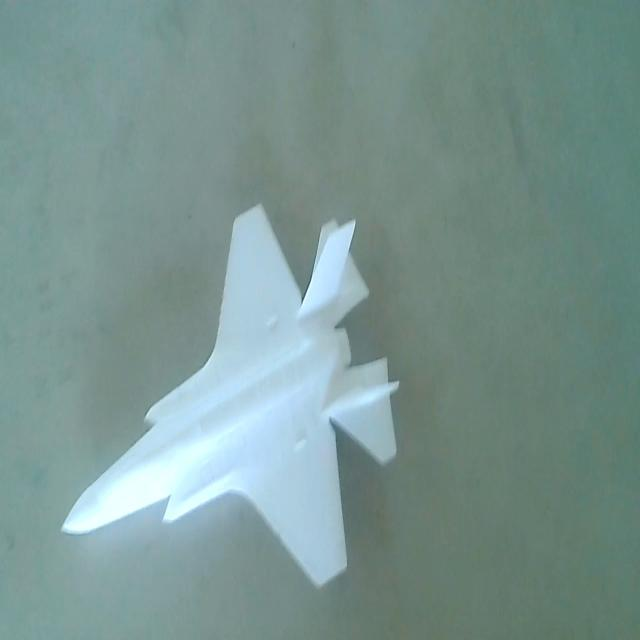Jet: (57, 200, 403, 618)
